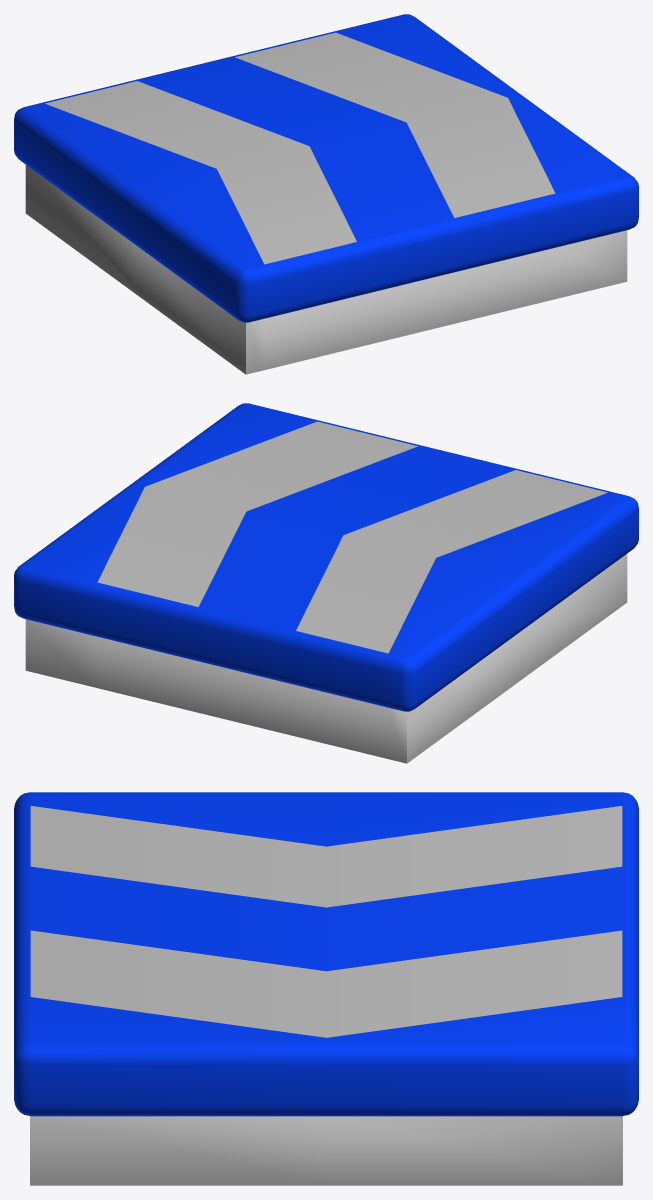
The model's file is Base_1_Low_Arrow_White_Blue2.glb.
3 views of the same model, one above another, from view 1: azimuth 30°, elevation 25°; view 2: azimuth 150°, elevation 25°; view 3: azimuth 270°, elevation 25° (orthographic). The views are drawn at different scales.
Parts seen in each view (by area): view 1: Base_1_Low_Arrow_White_; view 2: Base_1_Low_Arrow_White_; view 3: Base_1_Low_Arrow_White_.
Part boxes in pixels (<box>): Base_1_Low_Arrow_White_: <box>14,14,638,374</box>; Base_1_Low_Arrow_White_: <box>14,403,638,763</box>; Base_1_Low_Arrow_White_: <box>14,792,638,1185</box>.
Size of the model in its own units: 7.98 by 2 by 7.98.
